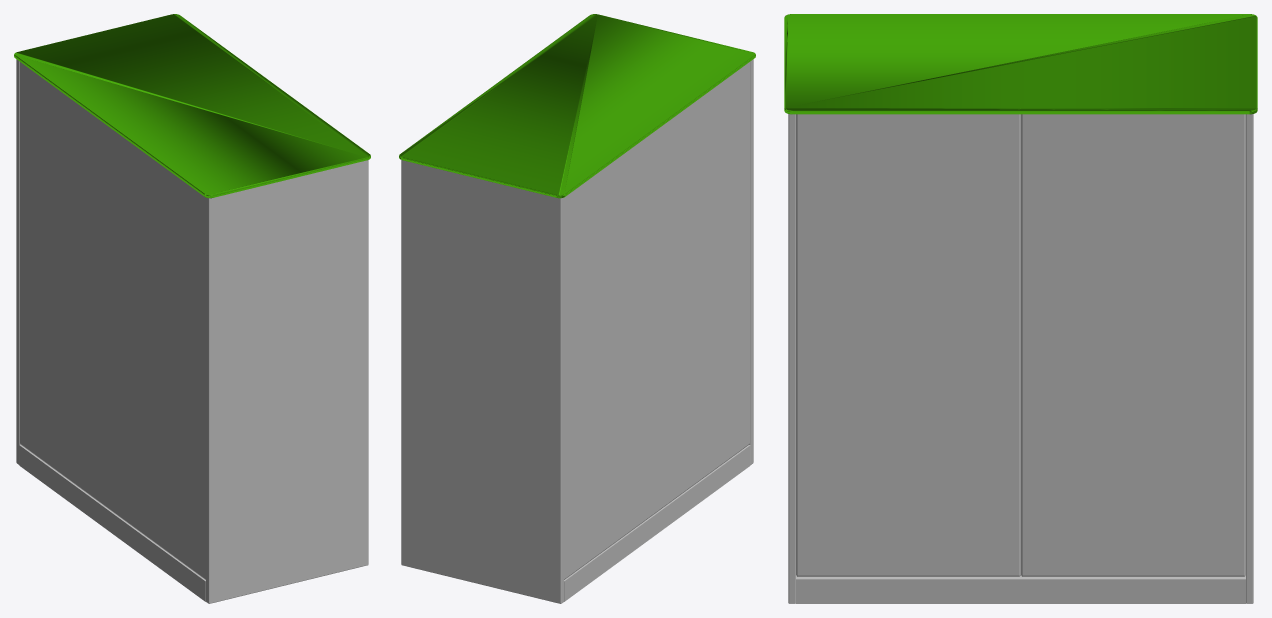
File: TNK-19.fbx
The picture shows the model from 3 angles, left to right: view 1: azimuth 30°, elevation 25°; view 2: azimuth 150°, elevation 25°; view 3: azimuth 270°, elevation 25°; orthographic projection. The views are drawn at different scales.
Parts seen in each view (by area): view 1: TNK_19; view 2: TNK_19; view 3: TNK_19.
Boxes of the visible parts, x1,y1,x2,y2 form: TNK_19: (14, 14, 370, 603); TNK_19: (399, 14, 755, 603); TNK_19: (784, 14, 1257, 603).
Size of the model in its own units: 59 by 140 by 121.
